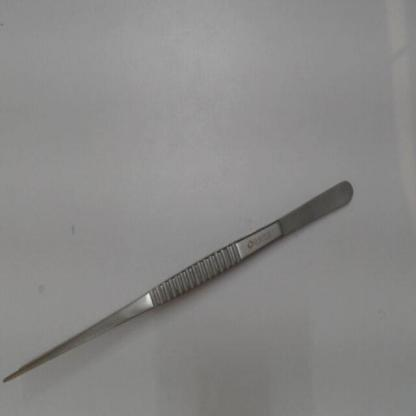DeBakey Dissector: (3, 166, 362, 400)
